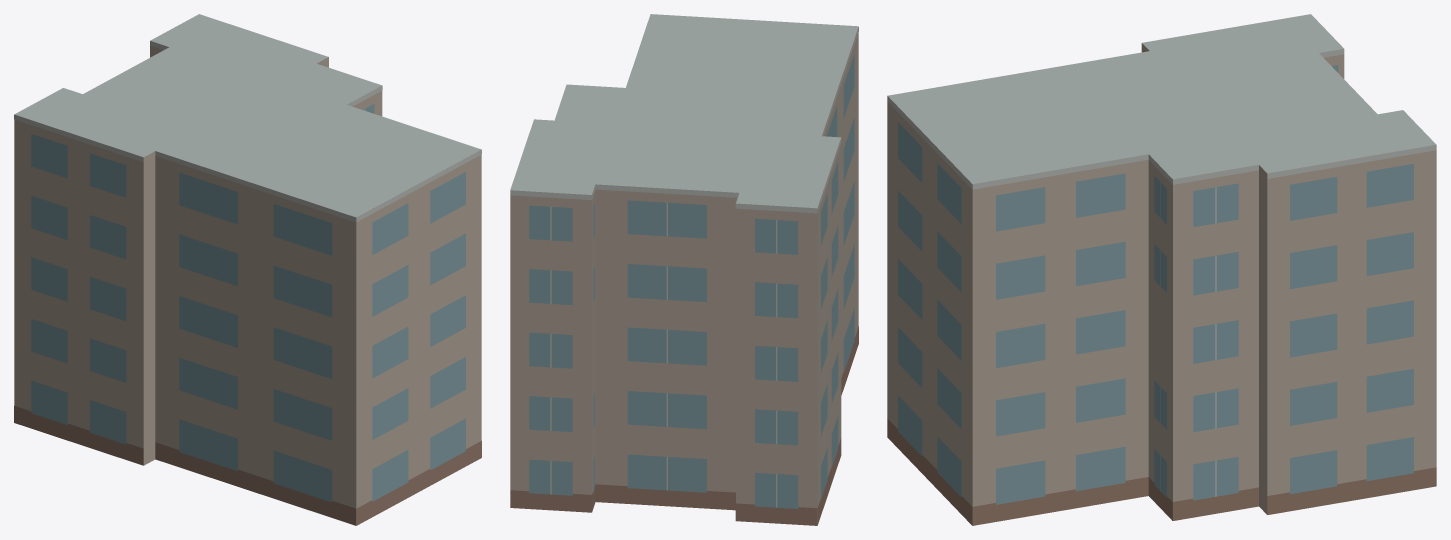
File: survey-upis-32961785.glb
3 renders of one model, left to right at view 1: azimuth 30°, elevation 25°; view 2: azimuth 150°, elevation 25°; view 3: azimuth 270°, elevation 25°, orthographic. The views are drawn at different scales.
Visible parts, largest first — view 1: survey-upis-32961785.tmp; view 2: survey-upis-32961785.tmp; view 3: survey-upis-32961785.tmp.
Part boxes in pixels (box(x1,y1,x2,y2)): survey-upis-32961785.tmp: box(14, 14, 481, 525); survey-upis-32961785.tmp: box(510, 14, 858, 525); survey-upis-32961785.tmp: box(887, 14, 1436, 525).
Size of the model in its own units: 16.31 by 15.25 by 22.22.
